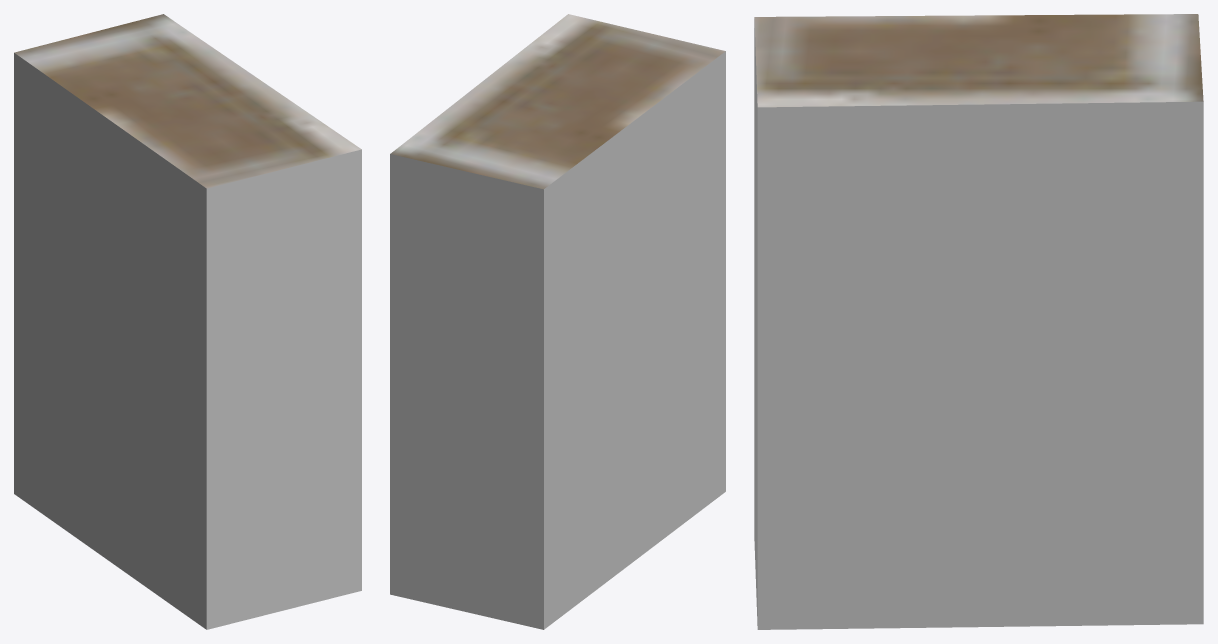
File: DEBW_001000oSgUB.gltf
The picture shows the model from 3 angles, left to right: view 1: azimuth 30°, elevation 25°; view 2: azimuth 150°, elevation 25°; view 3: azimuth 270°, elevation 25°; orthographic projection. The views are drawn at different scales.
Visible parts, largest first — view 1: Z_UP; view 2: Z_UP; view 3: Z_UP.
Part boxes in pixels (bbox=[...]): Z_UP: bbox=[14, 14, 361, 629]; Z_UP: bbox=[390, 14, 725, 629]; Z_UP: bbox=[754, 14, 1203, 629].
Size of the model in its own units: 3.45 by 9 by 7.01.
Materials: 2 (1 with a texture image).
